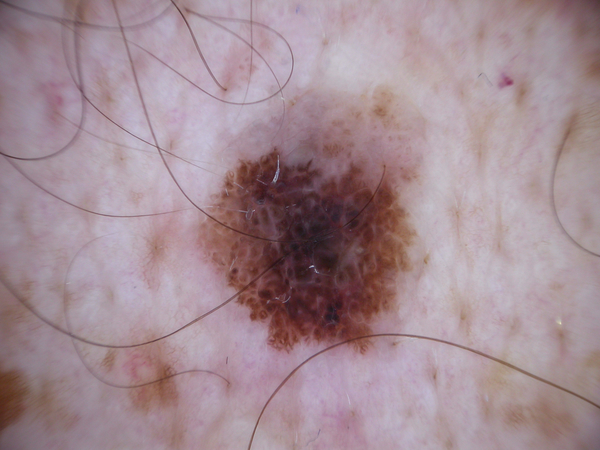Detected Lesion: (193, 141, 431, 369)
